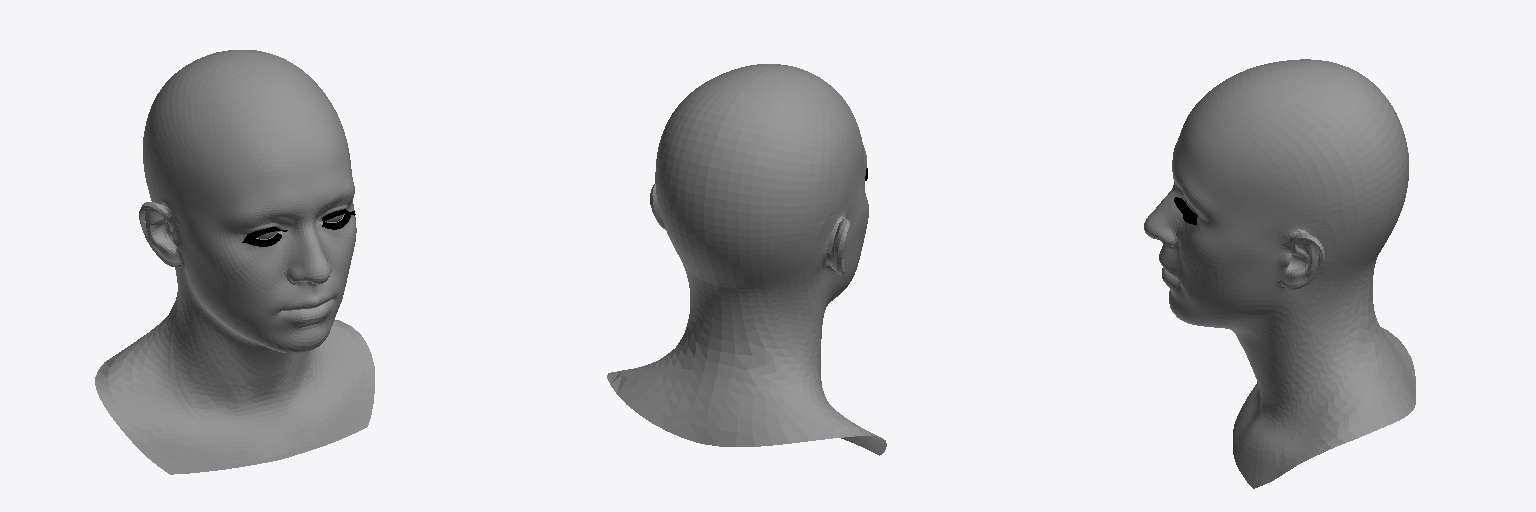
Rendered from identity043.obj.
3 views of the same model, side by side, from view 1: azimuth 30°, elevation 25°; view 2: azimuth 150°, elevation 25°; view 3: azimuth 270°, elevation 25° (orthographic).
Bounding box in the file's own units: 24.83 × 33.81 × 22.32.